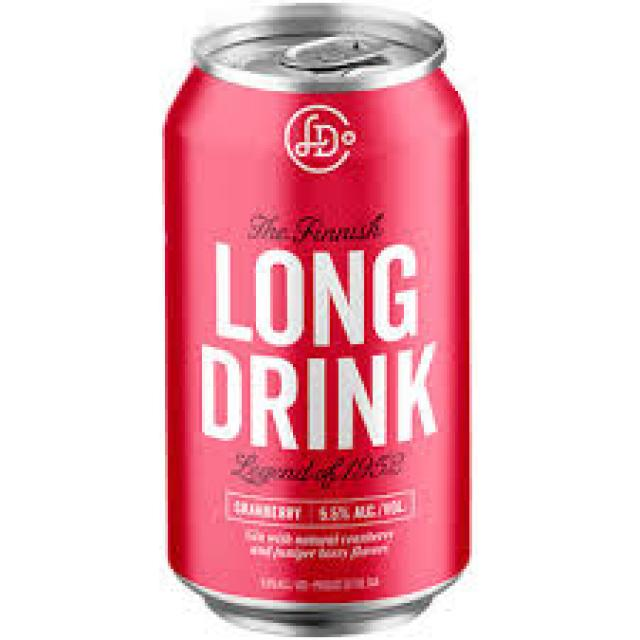Cans: (136, 3, 498, 631)
